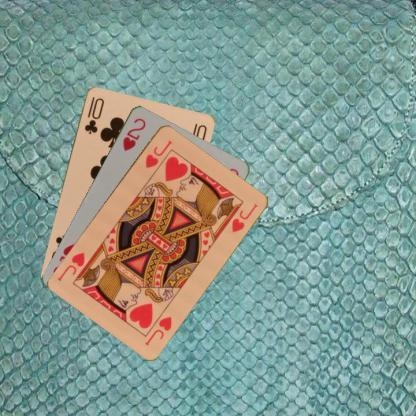10c: (82, 94, 105, 135)
2h: (120, 115, 147, 152)
Jh: (142, 313, 173, 347), (142, 137, 174, 169)
